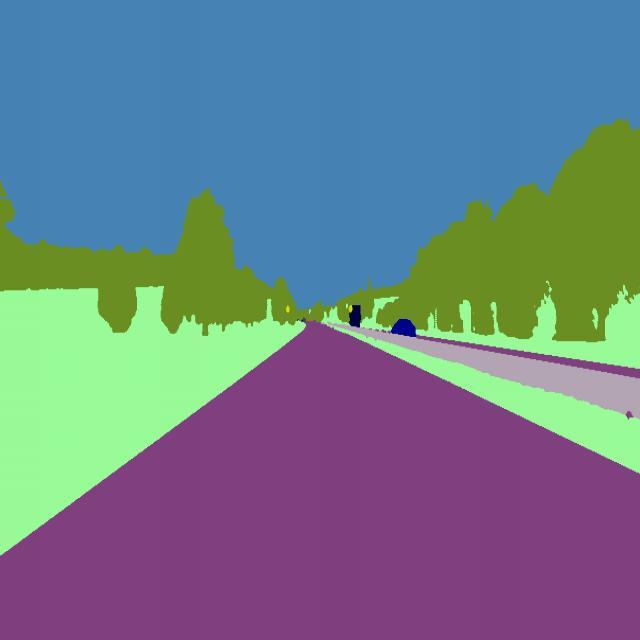safe: (388, 314, 419, 344), (346, 299, 364, 332)
